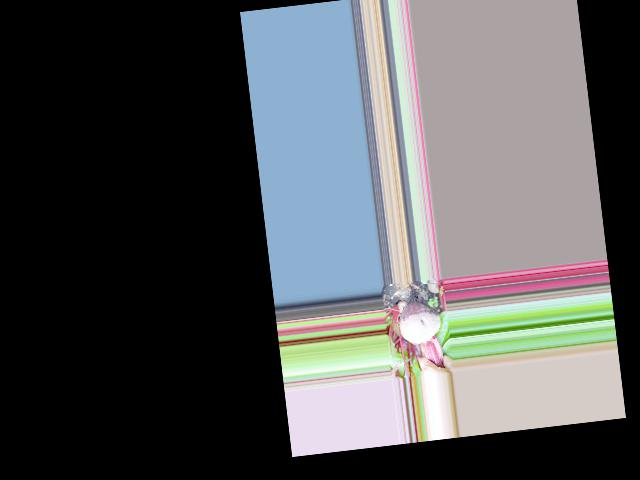beet: (394, 278, 445, 372)
